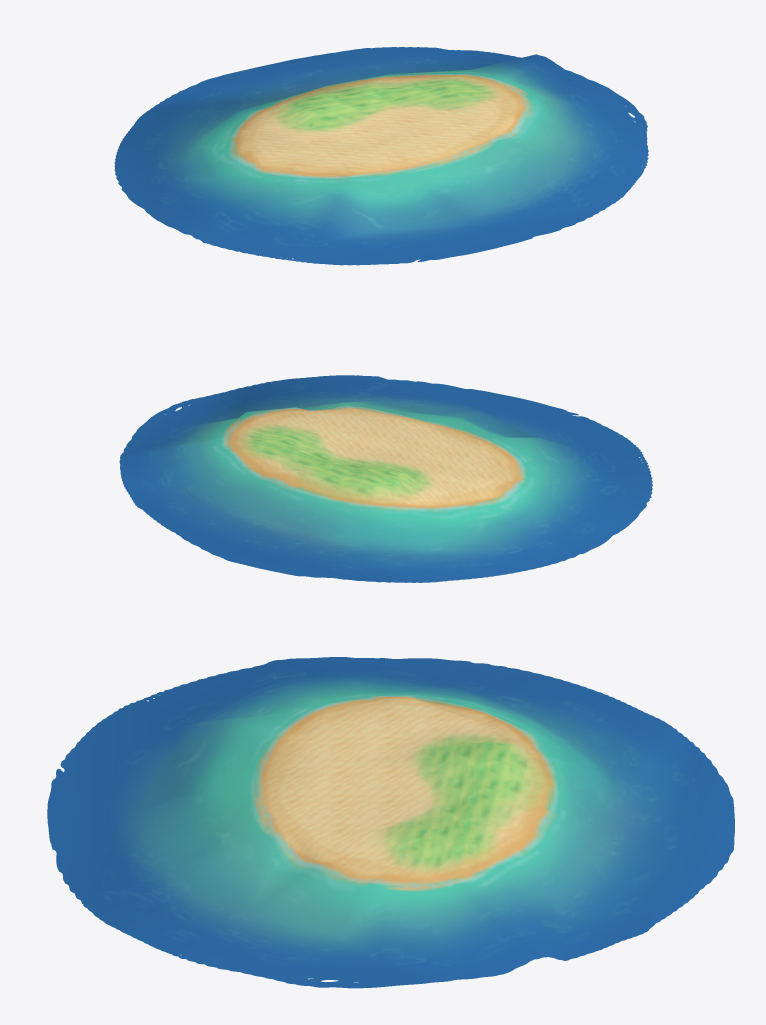
Rendered from island.fbx.
The picture shows the model from 3 angles, top to bottom: view 1: azimuth 30°, elevation 25°; view 2: azimuth 150°, elevation 25°; view 3: azimuth 270°, elevation 25°; orthographic projection. The views are drawn at different scales.
Visible parts, largest first — view 1: IslandModel_111; view 2: IslandModel_111; view 3: IslandModel_111.
Boxes of the visible parts, box(x1,y1,x2,y2) form: IslandModel_111: box(114, 47, 648, 265); IslandModel_111: box(119, 375, 652, 582); IslandModel_111: box(47, 657, 734, 988).
Size of the model in its own units: 5450 by 507 by 5080.
Materials: 1 (1 with a texture image).
